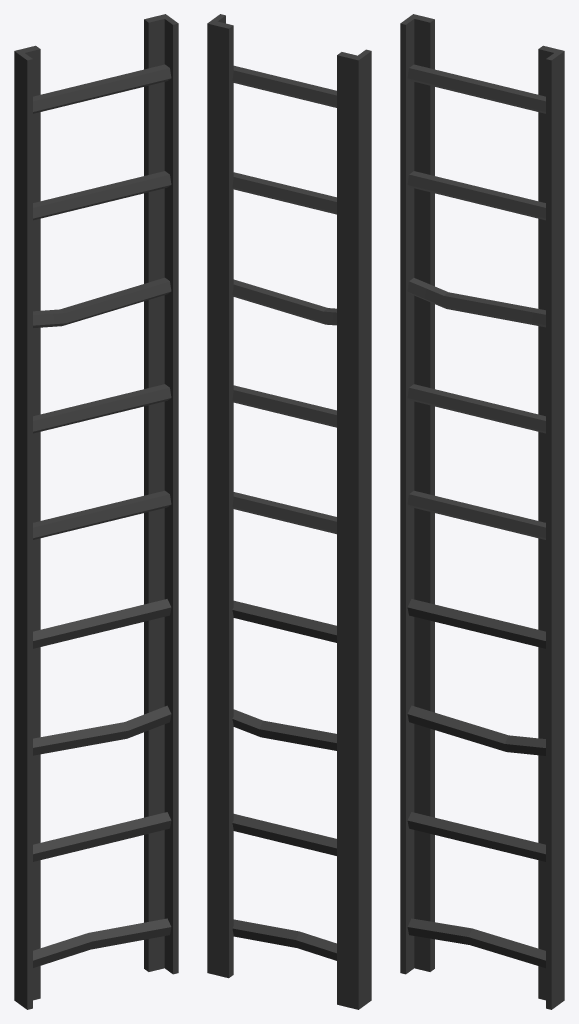
File: SM_Prop_Ladder_01.obj
3 views of the same model, side by side, from view 1: azimuth 30°, elevation 25°; view 2: azimuth 150°, elevation 25°; view 3: azimuth 330°, elevation 25° (orthographic).
Visible parts, largest first — view 1: SM_Prop_Ladder_01_0; view 2: SM_Prop_Ladder_01_0; view 3: SM_Prop_Ladder_01_0.
Boxes of the visible parts, <box> form: SM_Prop_Ladder_01_0: <box>14,14,178,1009</box>; SM_Prop_Ladder_01_0: <box>207,14,371,1009</box>; SM_Prop_Ladder_01_0: <box>400,14,564,1009</box>.
Size of the model in its own units: 0.5006 by 3 by 0.0746.
Materials: 1 (1 with a texture image).
